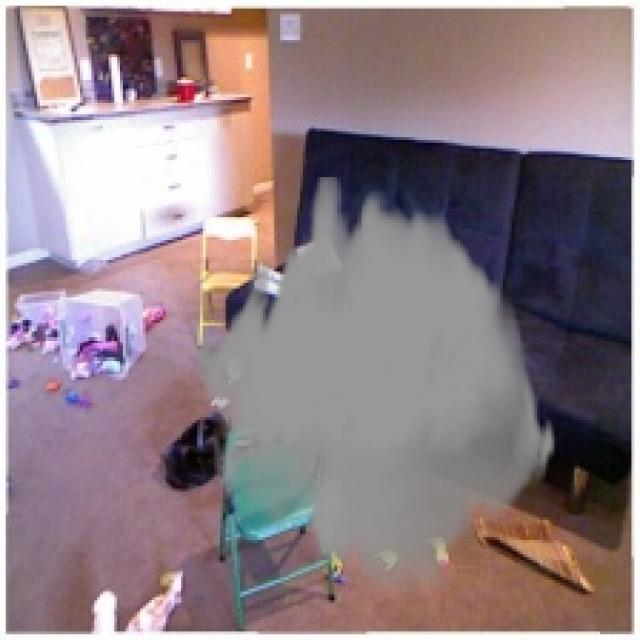Smoke: (194, 177, 557, 592)
